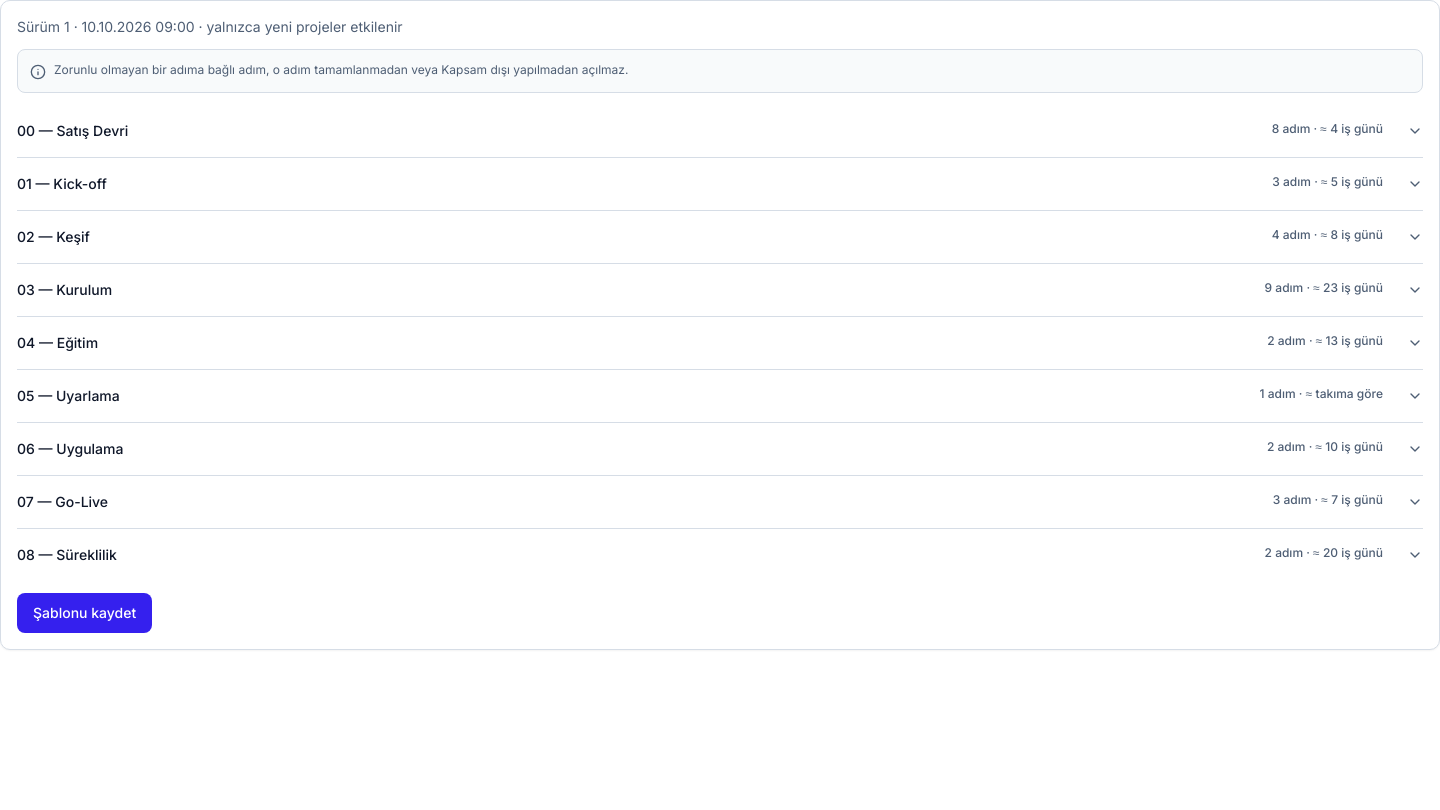
Test: TemplateEditor › 409 version conflict: error toast with a Yenile action that reloads the template
The width and height of the screenshot is (1440, 810).
Check: the text "Sürüm 1 ·" is shown, box [17,18,403,35]
Click the button "Şablonu kaydet" at (85, 613), box [17,593,152,633]
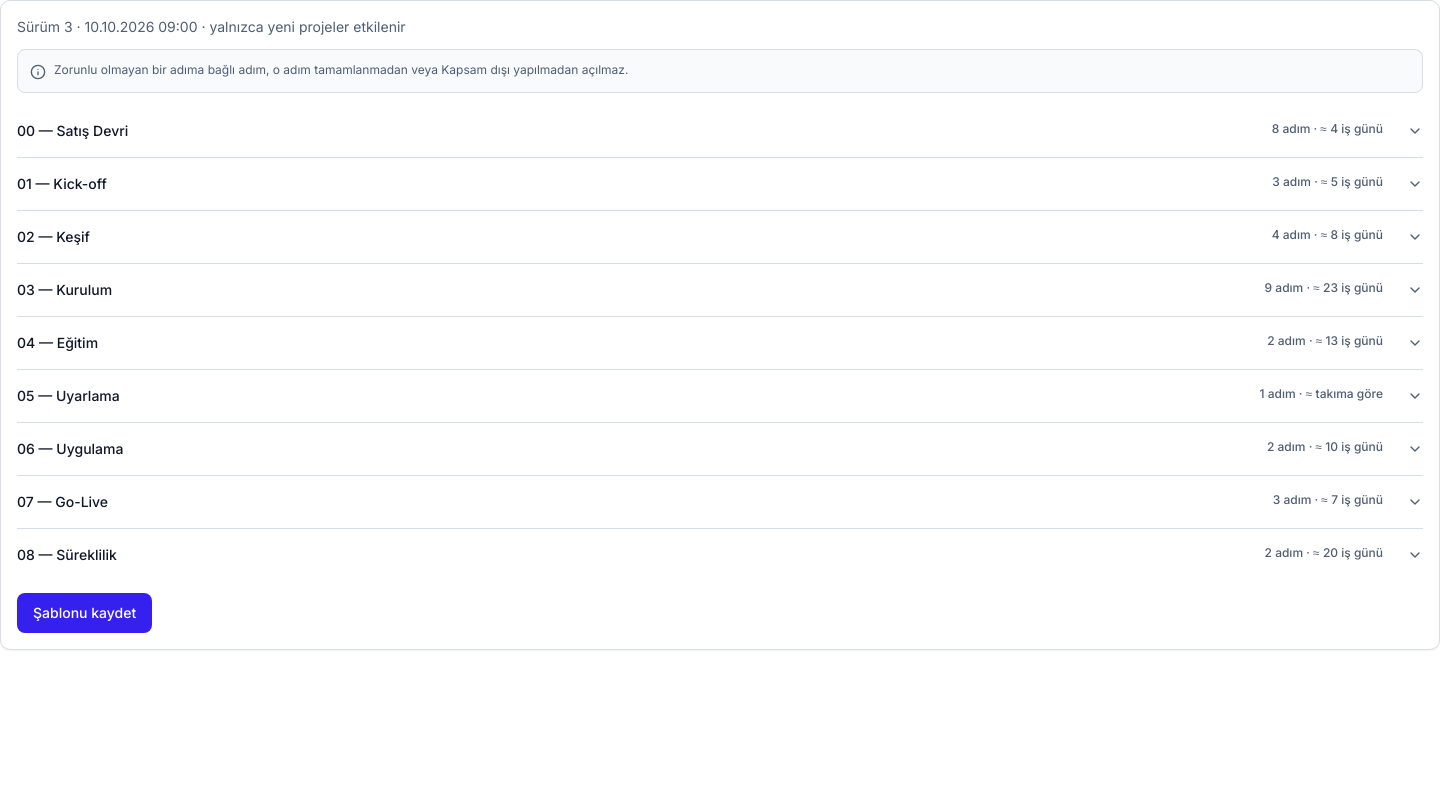
Check: the text "Sürüm 3 ·" is shown, box [17,18,406,35]
